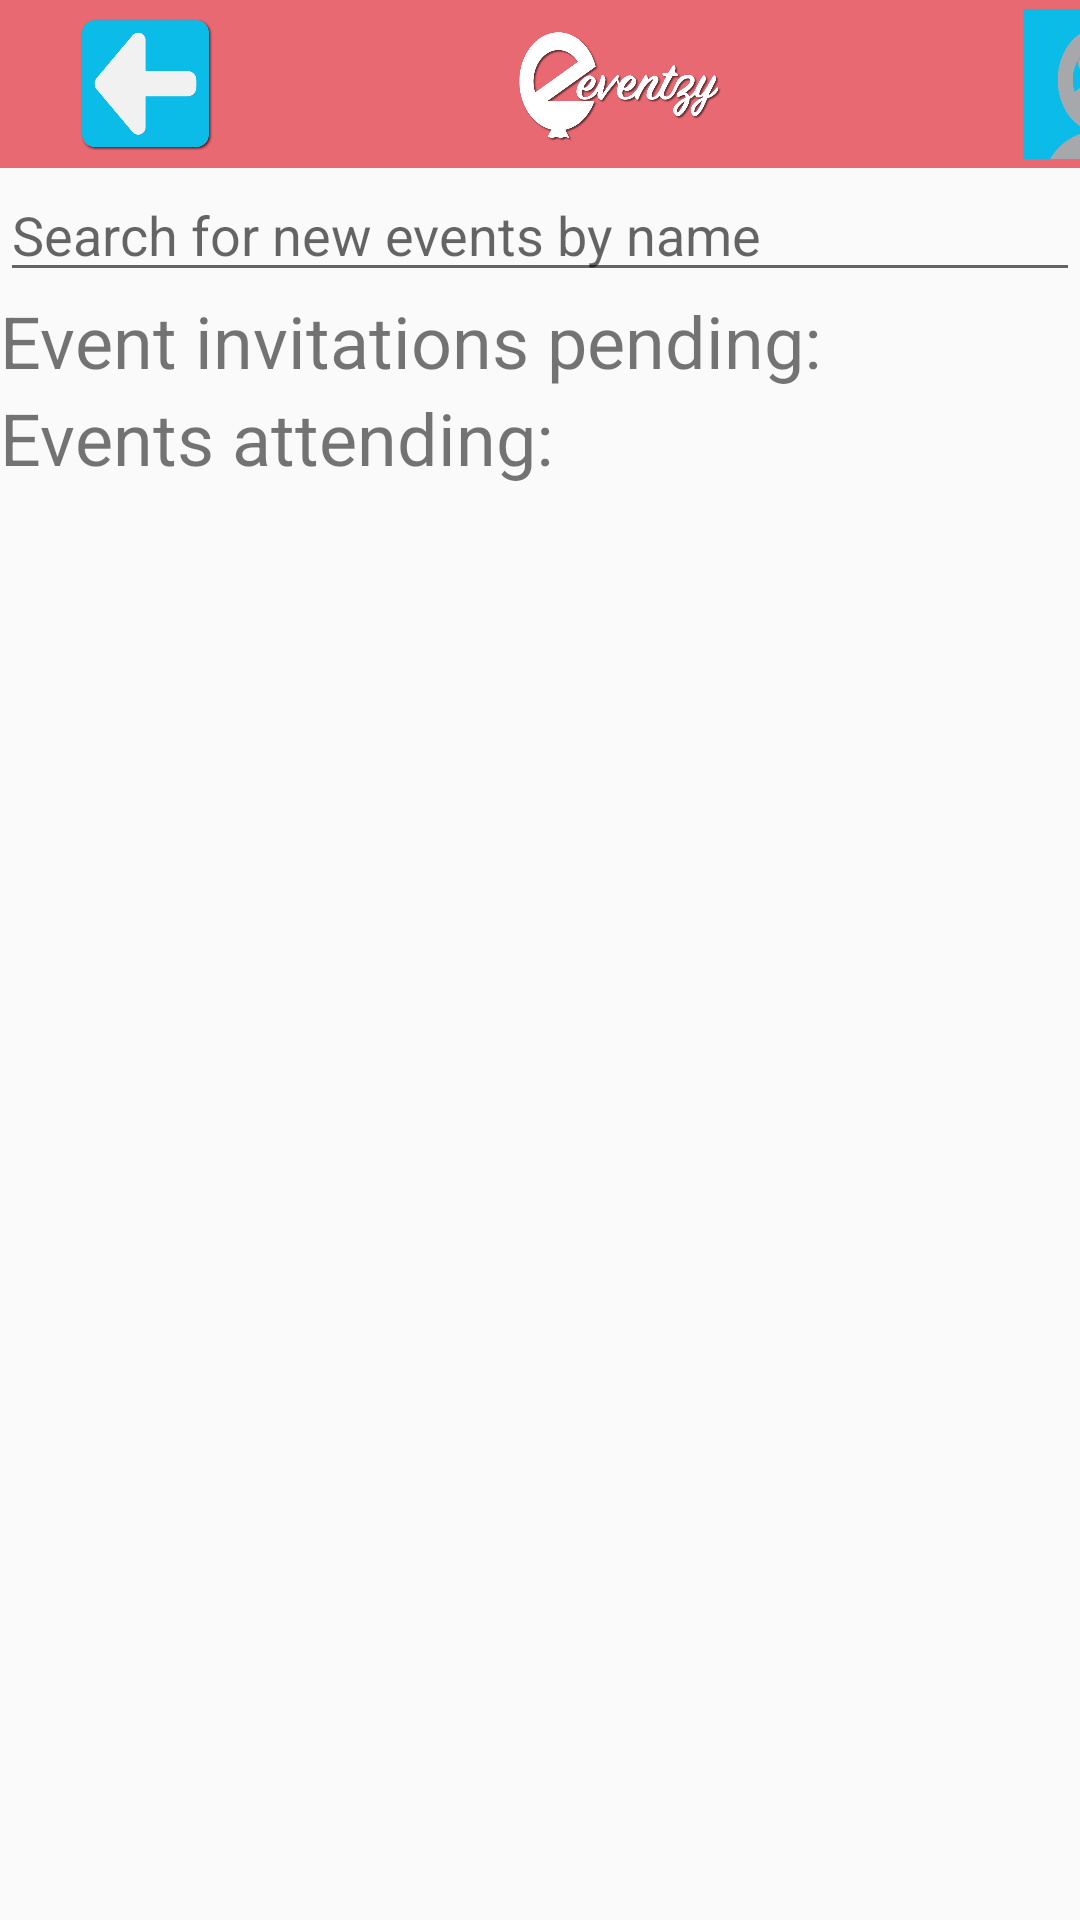

Named icons in this screenshot (1080x1920) and their centers, (x=x, y=y):
back: (x=147, y=85)
